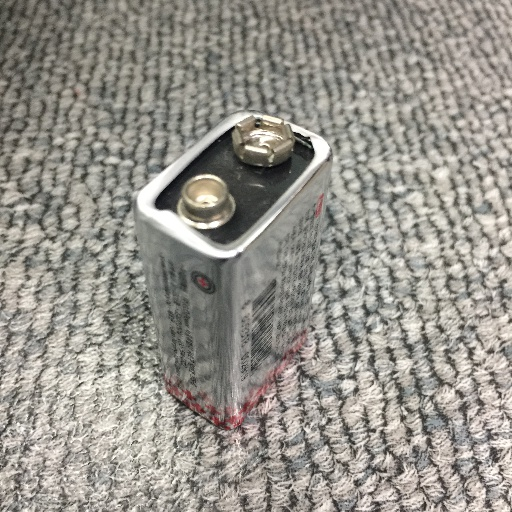Battery_3: (117, 80, 359, 442)
